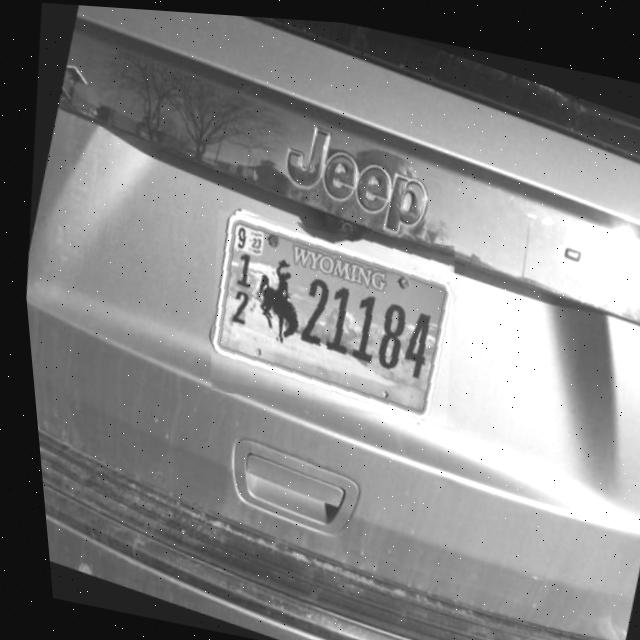LicensePlate: (205, 209, 449, 418)
